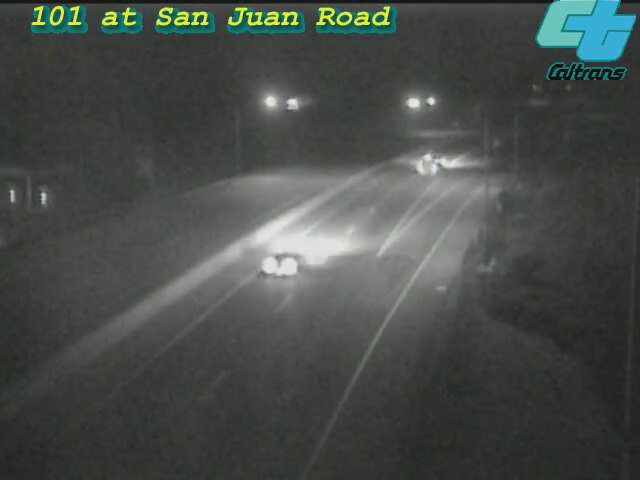vehicle: (392, 122, 472, 202), (244, 222, 324, 302)
